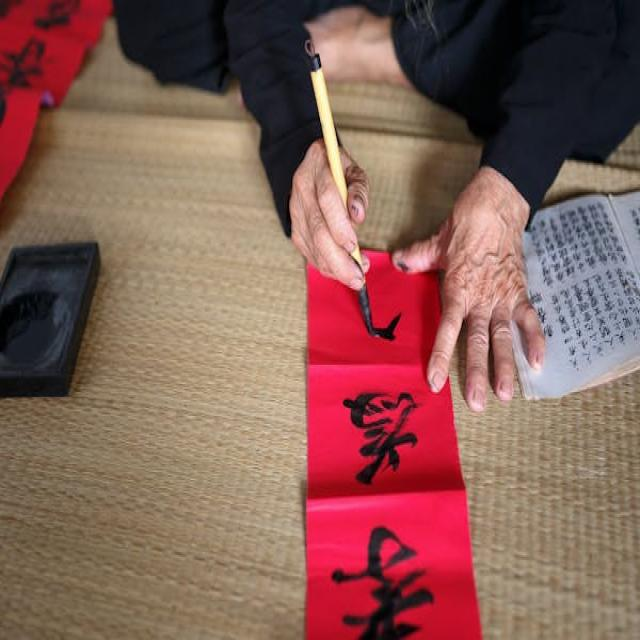pen: (287, 29, 391, 342)
